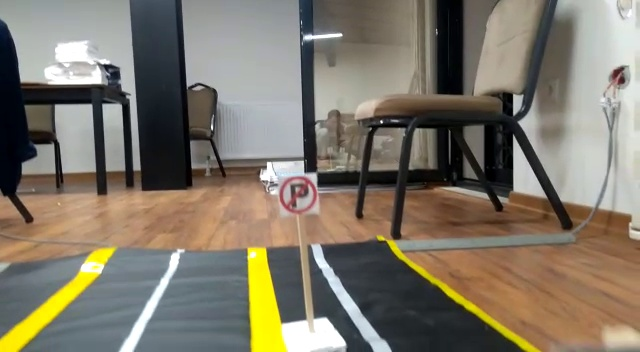park_yapilmaz: (278, 176, 320, 213)
